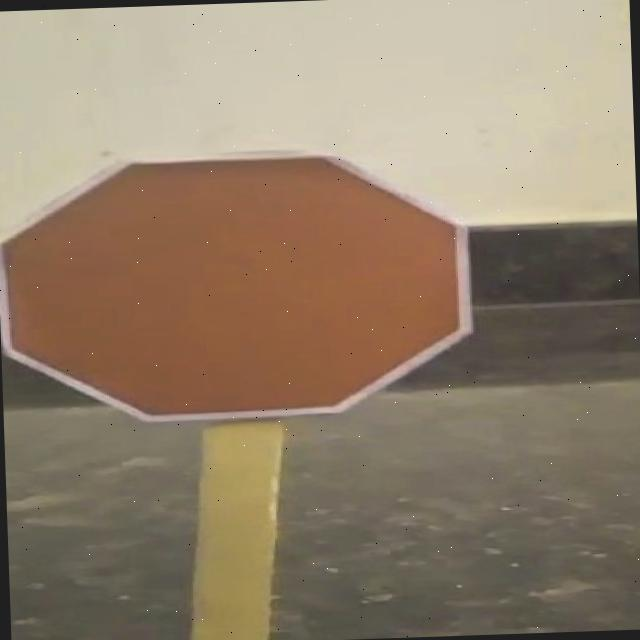Stop: (0, 125, 506, 440)
